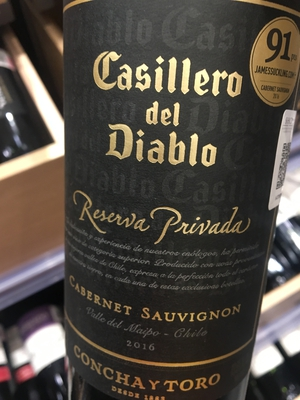casillero del diablo reserva privada cabernet sauvignon: (56, 1, 299, 400)
